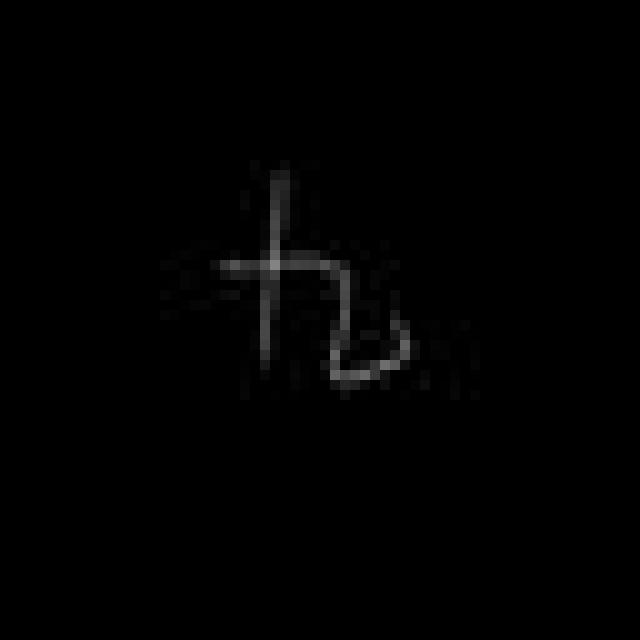9 -nine-: (214, 158, 412, 386)
